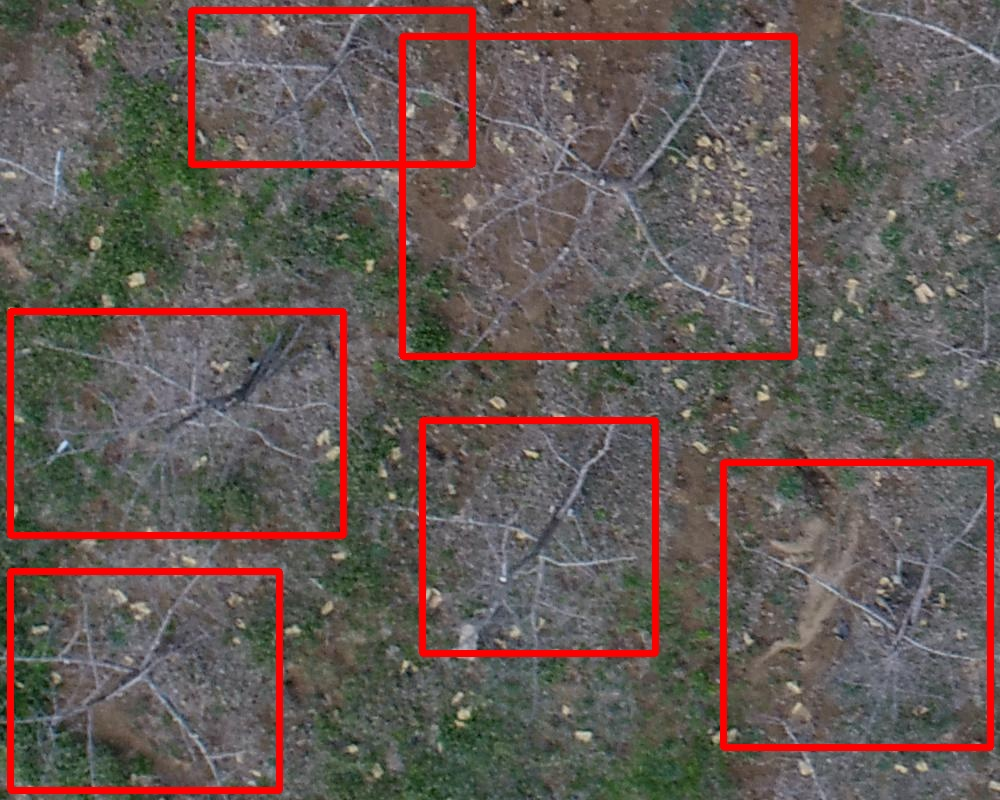apple: (402, 36, 794, 356), (723, 462, 990, 747), (10, 311, 343, 535), (10, 571, 279, 790), (422, 420, 655, 653), (191, 10, 472, 164)
